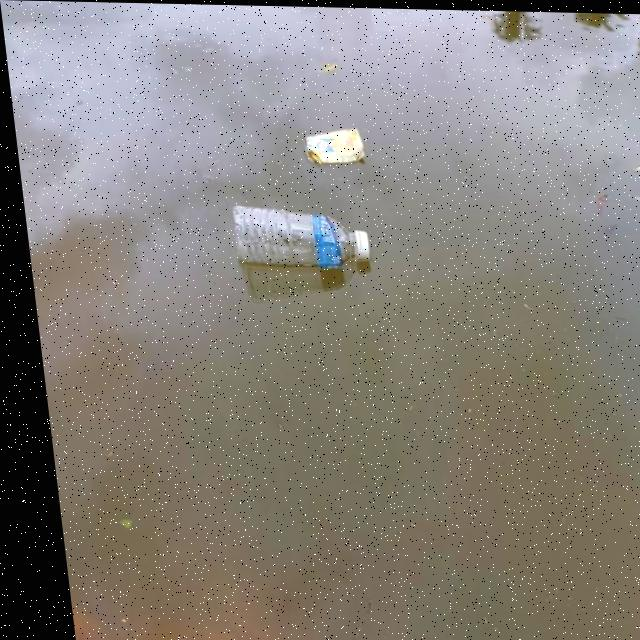paper: (300, 114, 367, 183)
waterbottle: (217, 213, 370, 282)
